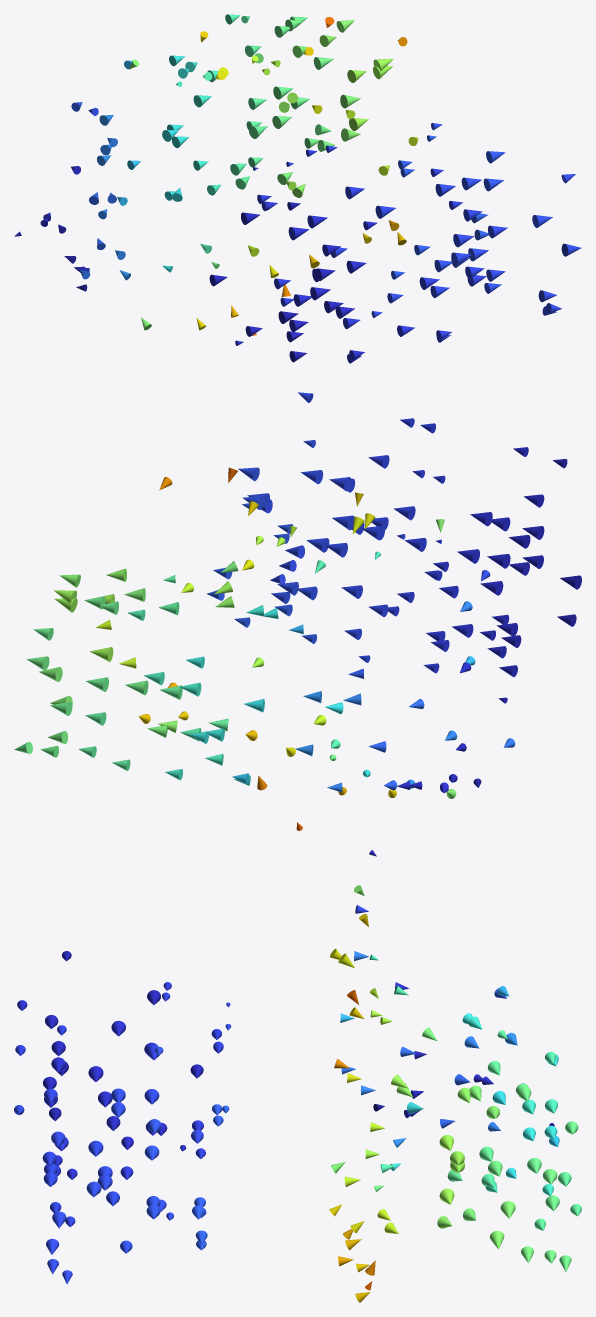
Rendered from LineasCorrienteN2-H2O_mh2-6.88_V-0.7.glb.
3 renders of one model, top to bottom at view 1: azimuth 30°, elevation 25°; view 2: azimuth 150°, elevation 25°; view 3: azimuth 270°, elevation 25°, orthographic. The views are drawn at different scales.
Size of the model in its own units: 0.000985 by 0.00081 by 0.0012.
2 materials, 2 textured.
